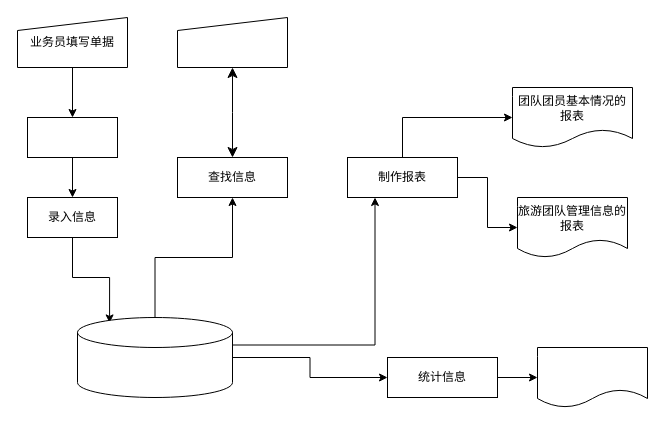
Image size: 665x425. Some labels were removed from this diagram. Here are the shapes that lost their labels. From the top down, the box of each, then its label:
(176, 16, 288, 68): 业务员接受查询
(26, 116, 118, 158): 处理单据
(76, 316, 232, 398): 业务信息表格
(536, 346, 648, 408): 排行榜
